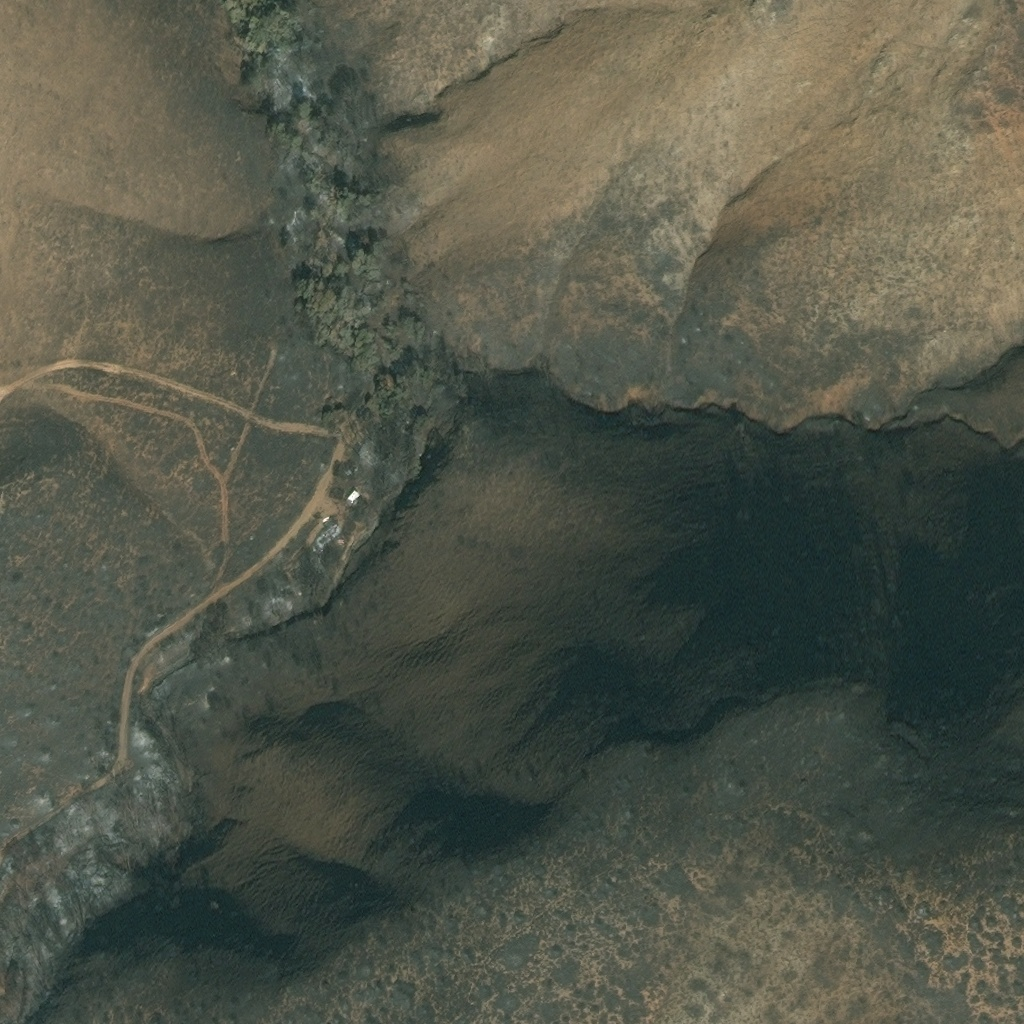0 no-damage: (346, 490, 361, 506)
3 destroyed: (314, 520, 342, 547), (356, 446, 378, 465)
